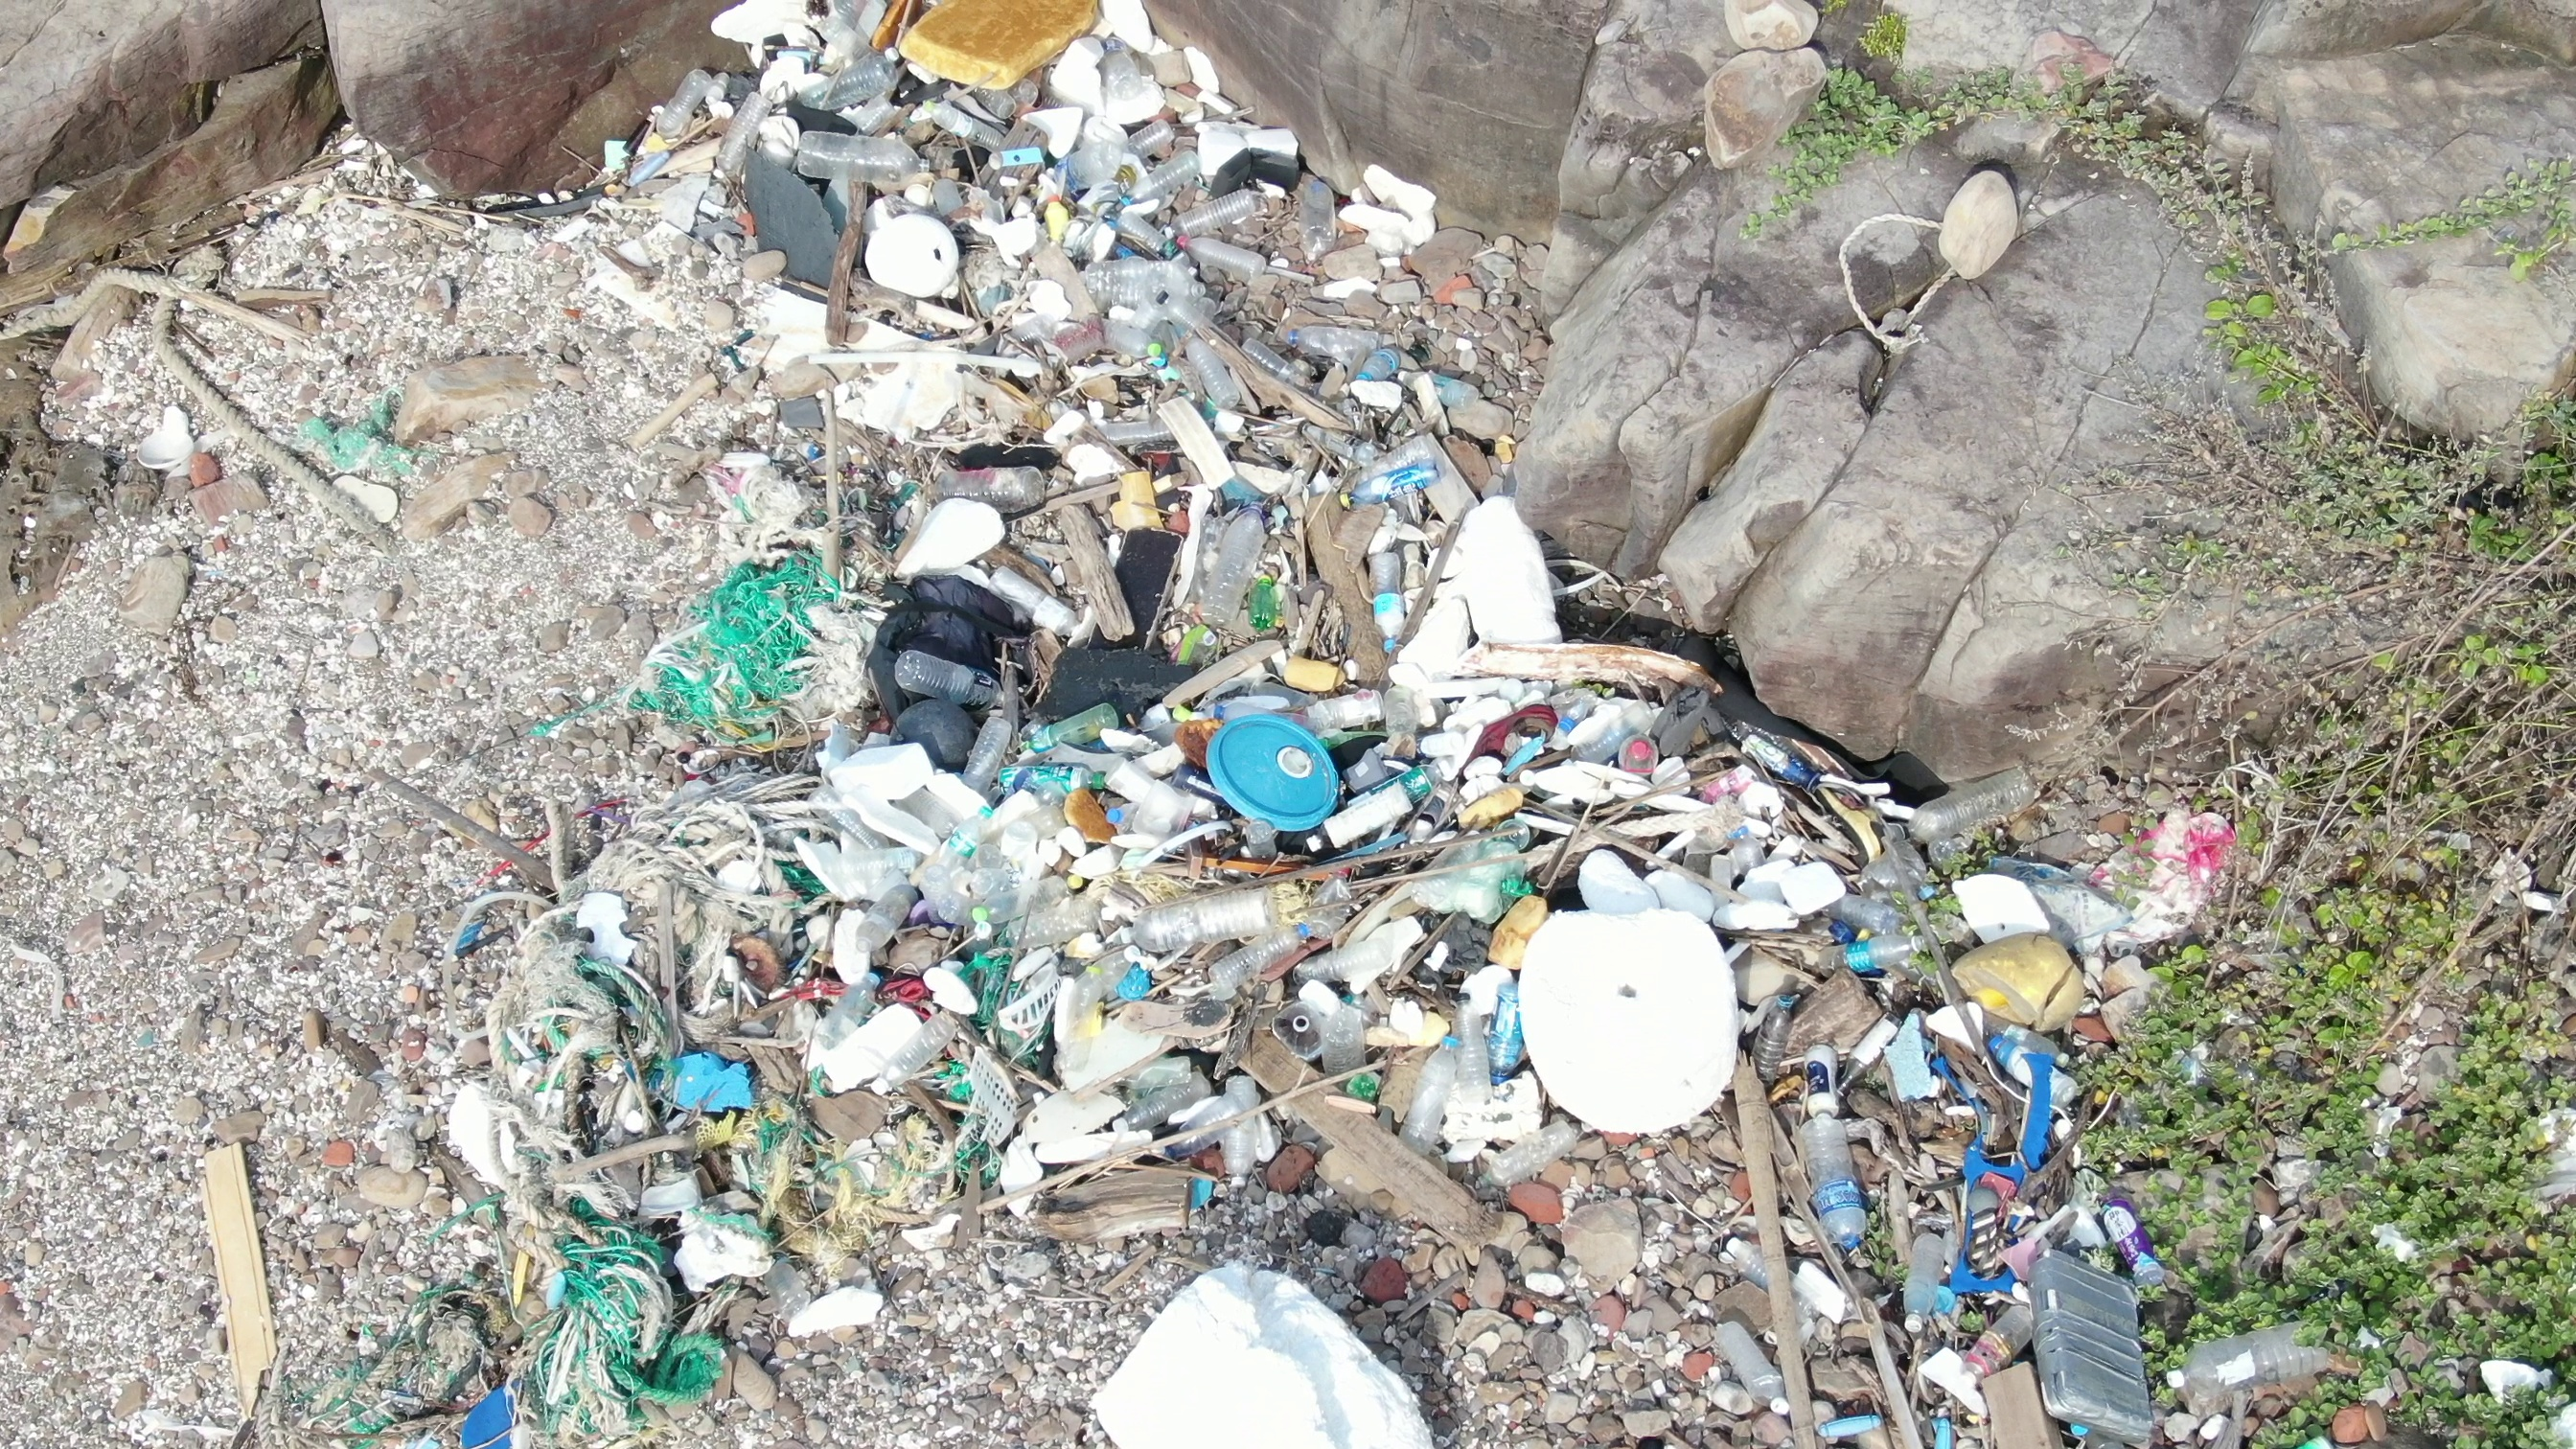bottle: (2167, 1327, 2342, 1405), (1798, 1123, 1884, 1260), (1194, 488, 1272, 635), (1898, 768, 2029, 849), (1111, 883, 1284, 941), (2089, 1177, 2167, 1306), (1207, 924, 1322, 1007), (1343, 755, 1460, 835), (885, 649, 1019, 715), (1343, 439, 1451, 518), (796, 127, 934, 189), (881, 1010, 985, 1090), (1801, 881, 1928, 945), (1898, 1214, 1962, 1341), (913, 803, 993, 904), (892, 460, 1051, 510), (1481, 1122, 1591, 1191), (994, 564, 1088, 644), (1407, 1026, 1467, 1145), (715, 90, 784, 193), (1023, 694, 1136, 755), (1361, 541, 1417, 663), (957, 709, 1040, 791), (1215, 1062, 1263, 1201), (1746, 977, 1805, 1085), (1077, 242, 1171, 308), (989, 759, 1106, 807), (1115, 147, 1207, 205), (801, 51, 899, 104), (1318, 1003, 1371, 1100), (651, 64, 725, 133), (1817, 931, 1934, 973), (1180, 232, 1269, 285), (1189, 329, 1242, 412), (1491, 970, 1529, 1088), (1293, 165, 1339, 255), (1168, 186, 1269, 223), (1244, 336, 1313, 386), (1348, 343, 1417, 387), (1284, 317, 1366, 354), (1810, 1026, 1840, 1116), (1125, 111, 1185, 156), (1251, 554, 1274, 633)
garbage: (304, 694, 2330, 1449), (571, 2, 1614, 709), (4, 258, 433, 557), (1822, 189, 1987, 373), (2488, 832, 2576, 955), (2466, 1336, 2576, 1426)
